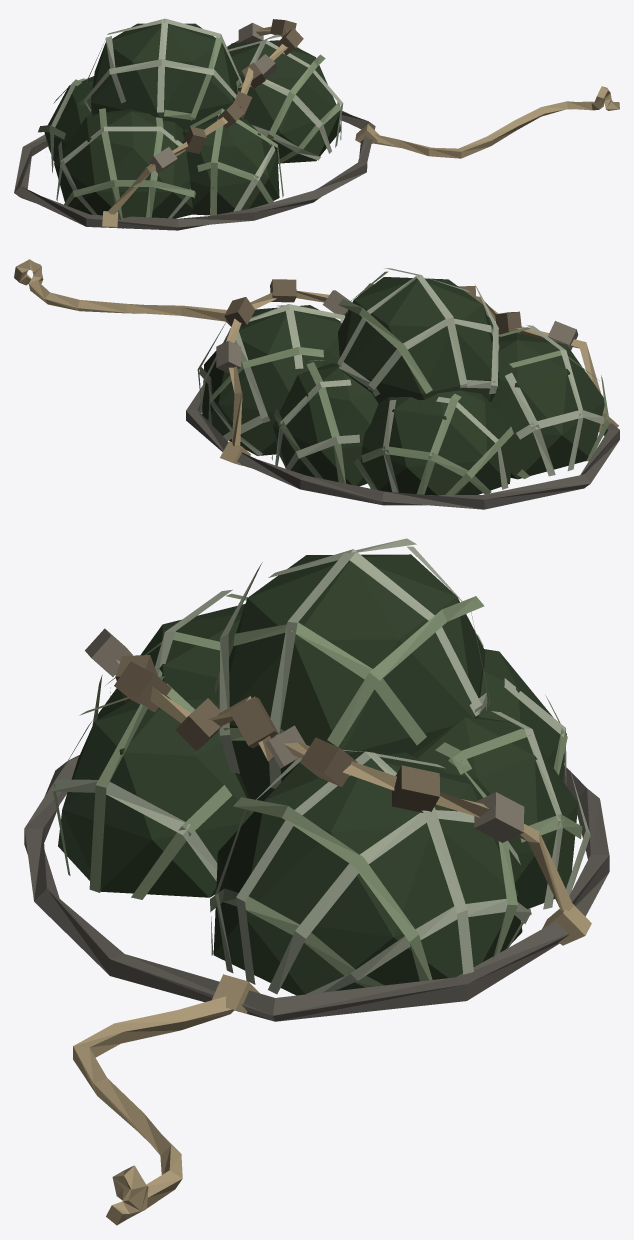
Rendered from net-pile-0bd489.glb.
The picture shows the model from 3 angles, top to bottom: view 1: azimuth 30°, elevation 25°; view 2: azimuth 150°, elevation 25°; view 3: azimuth 270°, elevation 25°; orthographic projection. The views are drawn at different scales.
Visible parts, largest first — view 1: net-pile-0bd489; view 2: net-pile-0bd489; view 3: net-pile-0bd489.
Part boxes in pixels (box(x1,y1,x2,y2)): net-pile-0bd489: box(14, 18, 619, 230); net-pile-0bd489: box(14, 259, 619, 509); net-pile-0bd489: box(24, 538, 609, 1225).
Size of the model in its own units: 2.5 by 0.6332 by 1.16.
